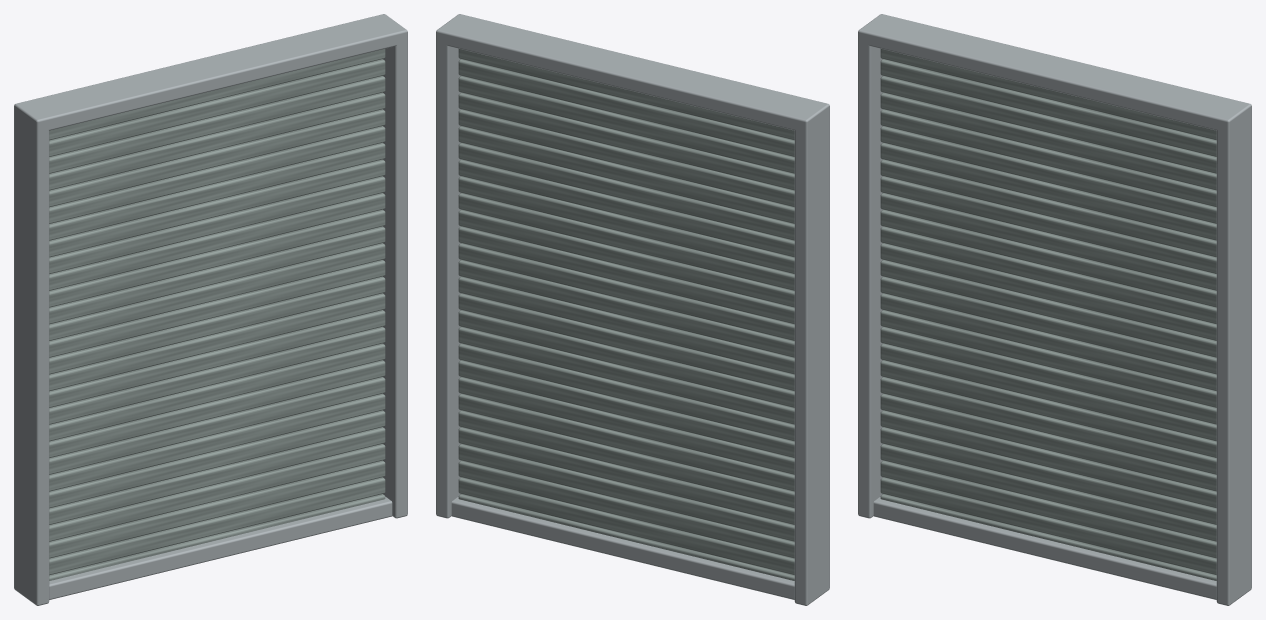
The model's file is liminal-spaces-kit-storefront-shutter-95500afa__25260.glb.
The picture shows the model from 3 angles, left to right: view 1: azimuth 30°, elevation 25°; view 2: azimuth 150°, elevation 25°; view 3: azimuth 330°, elevation 25°; orthographic projection.
Visible parts, largest first — view 1: storefront-shutter; view 2: storefront-shutter; view 3: storefront-shutter.
Part boxes in pixels (x1,y1,x2,y2): storefront-shutter: (14,14,407,605); storefront-shutter: (436,14,829,605); storefront-shutter: (858,14,1251,605).
Size of the model in its own units: 2 by 2.5 by 0.22.
2 materials, 1 textured.
